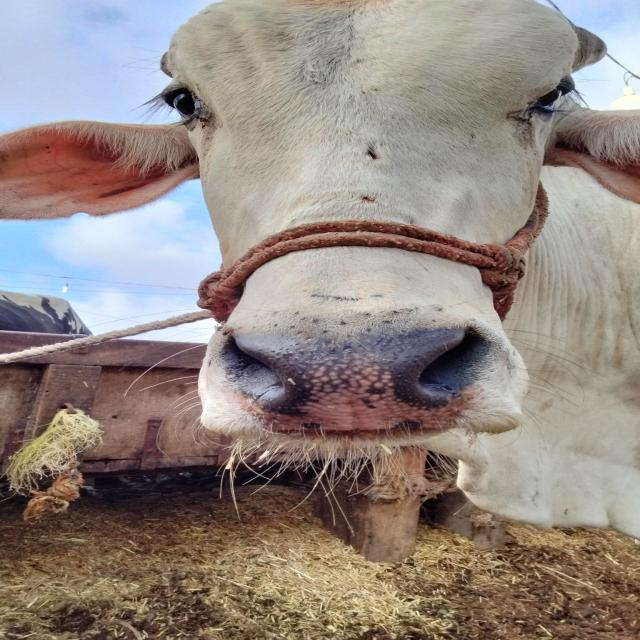muzzles: (218, 315, 490, 443)
